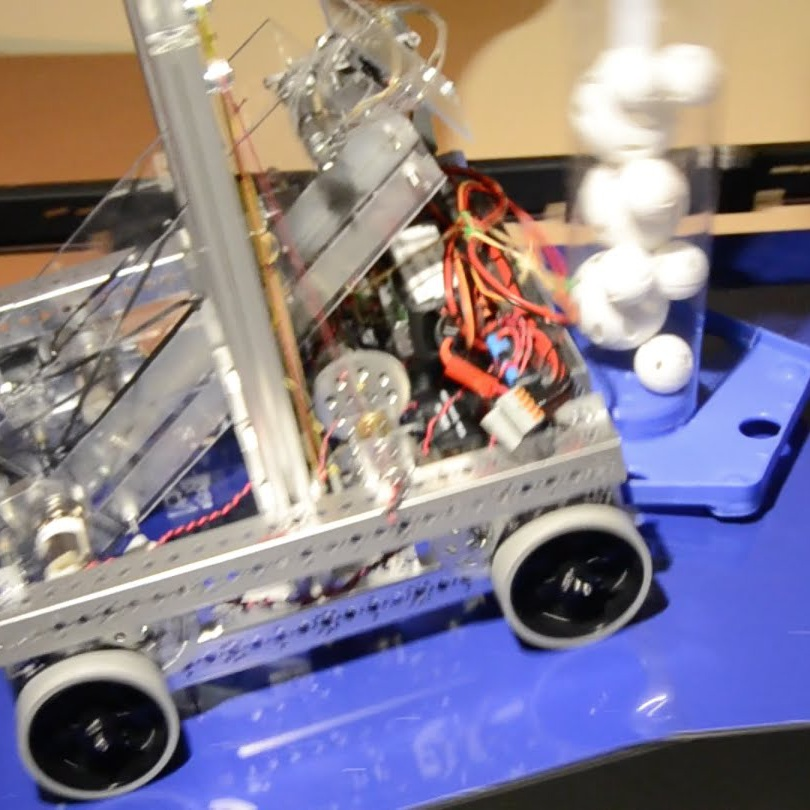robot: (0, 1, 661, 804)
